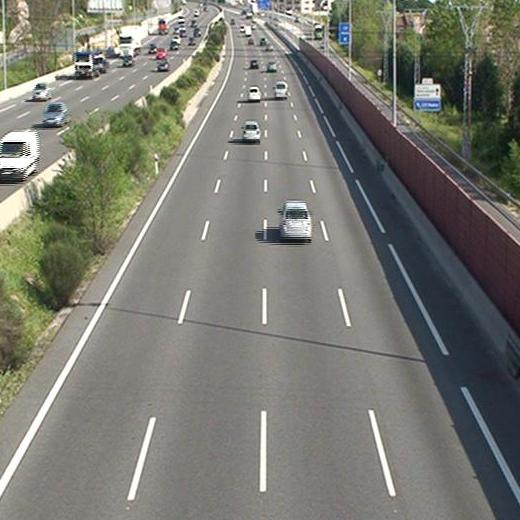car: (280, 204, 311, 239), (242, 122, 261, 141), (247, 87, 261, 100), (266, 61, 276, 71), (248, 60, 258, 68)
van: (274, 82, 287, 98)
